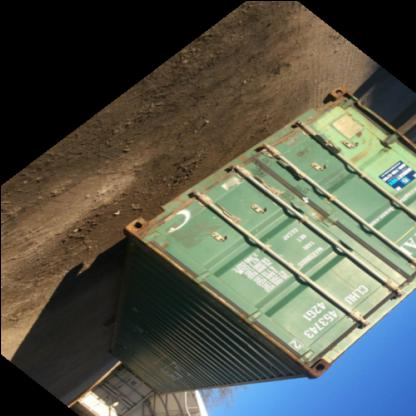Damage: (160, 218, 224, 246), (278, 178, 324, 214), (306, 118, 341, 159), (249, 160, 292, 193), (211, 170, 243, 196), (290, 138, 312, 160)
